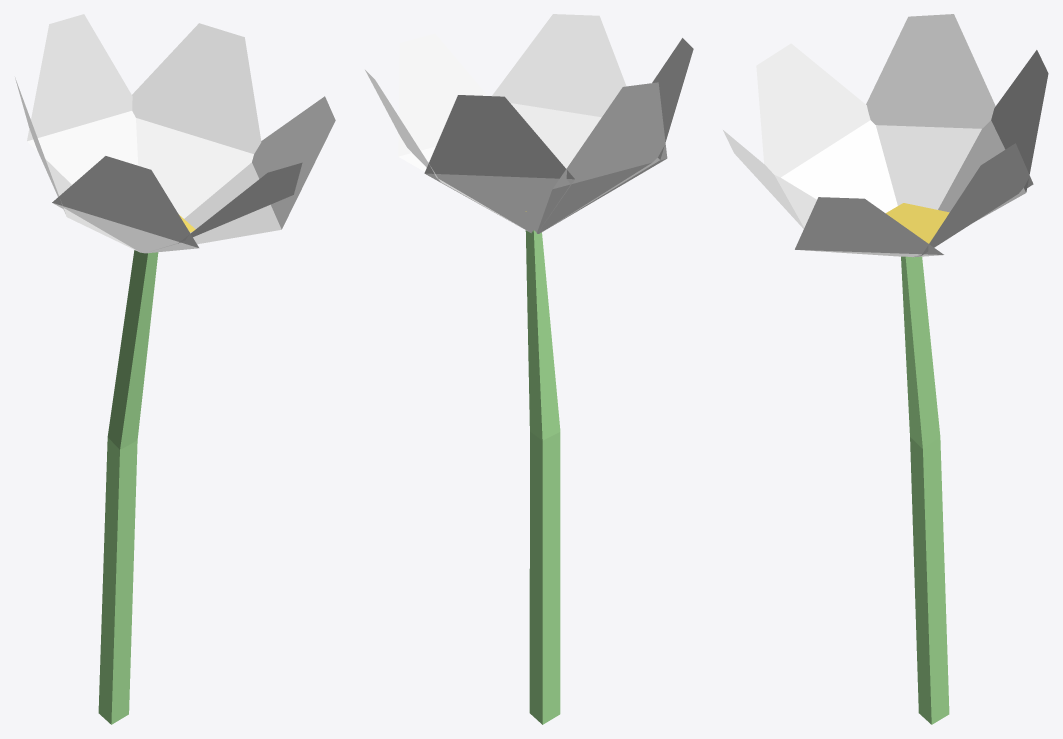
File: Flower_e_OneS_01.fbx
3 renders of one model, left to right at view 1: azimuth 30°, elevation 25°; view 2: azimuth 150°, elevation 25°; view 3: azimuth 270°, elevation 25°, orthographic.
Parts seen in each view (by area): view 1: Flower_e_OneS_01; view 2: Flower_e_OneS_01; view 3: Flower_e_OneS_01.
Part boxes in pixels (x1,y1,x2,y2): Flower_e_OneS_01: (15,14,335,724); Flower_e_OneS_01: (365,14,693,724); Flower_e_OneS_01: (723,14,1048,724).
Bounding box in the file's own units: 14.62 × 32.95 × 14.71.
